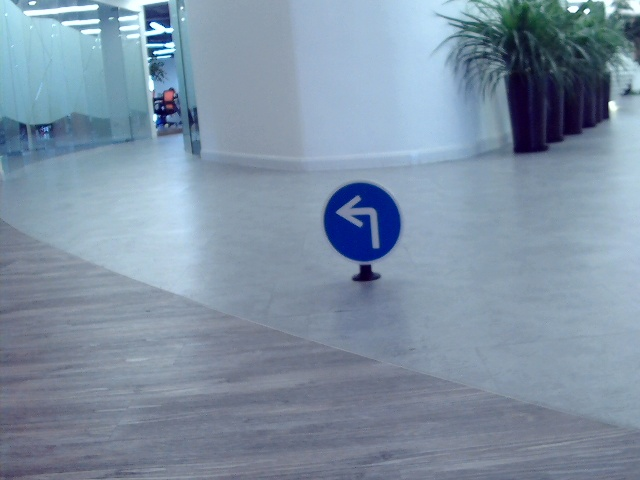turn_left: (334, 193, 387, 247)
